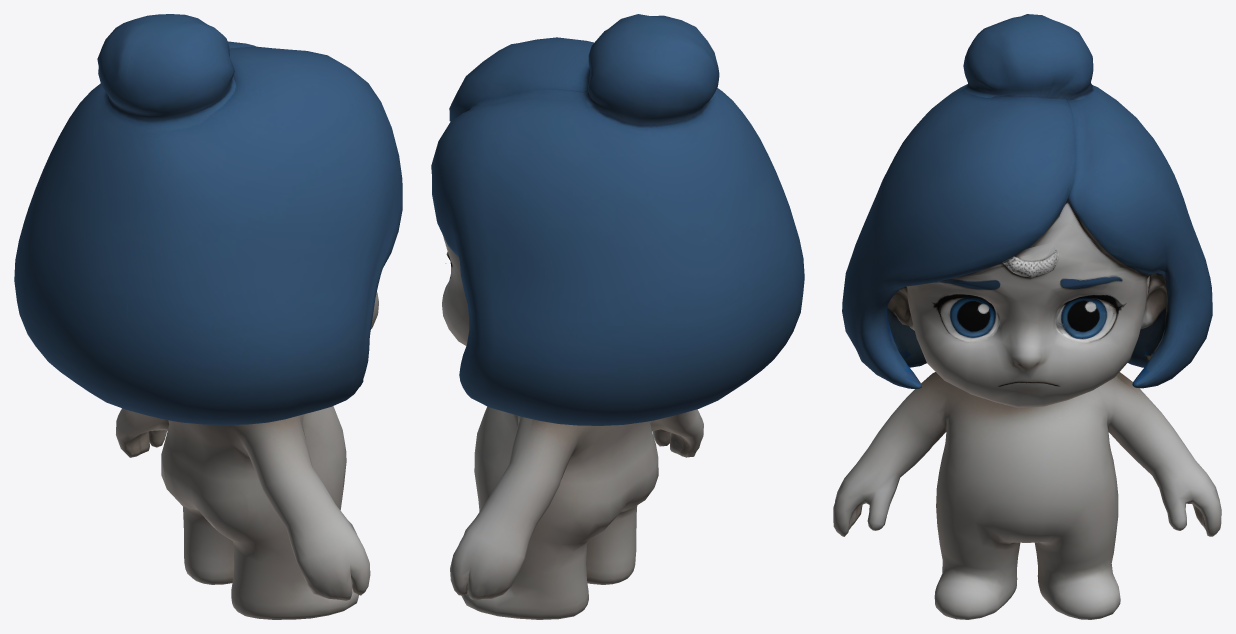
The model's file is Luna.fbx.
The picture shows the model from 3 angles, left to right: view 1: azimuth 30°, elevation 25°; view 2: azimuth 150°, elevation 25°; view 3: azimuth 270°, elevation 25°; orthographic projection. The views are drawn at different scales.
Visible parts, largest first — view 1: tripo_node_15dc9e5a; view 2: tripo_node_15dc9e5a; view 3: tripo_node_15dc9e5a.
Part boxes in pixels (<box>): tripo_node_15dc9e5a: <box>14,14,402,619</box>; tripo_node_15dc9e5a: <box>431,14,804,619</box>; tripo_node_15dc9e5a: <box>833,14,1221,619</box>.
Size of the model in its own units: 0.5773 by 0.9988 by 0.6604.
1 material, 1 textured.
